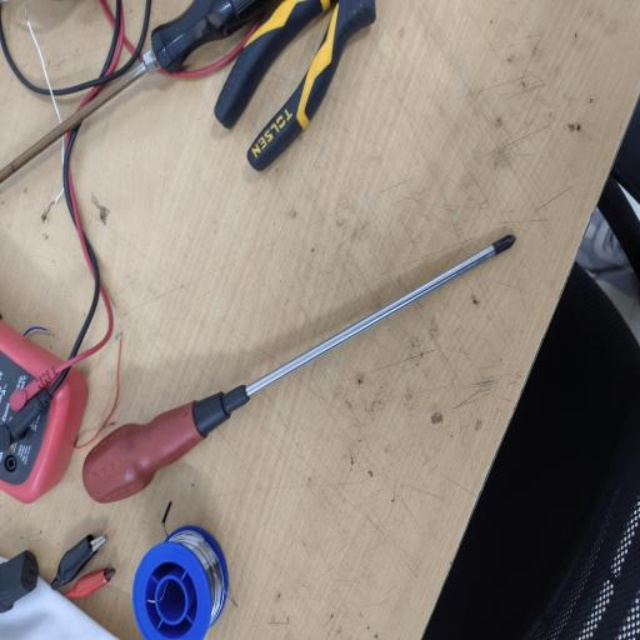screwdriver: (83, 231, 519, 505)
